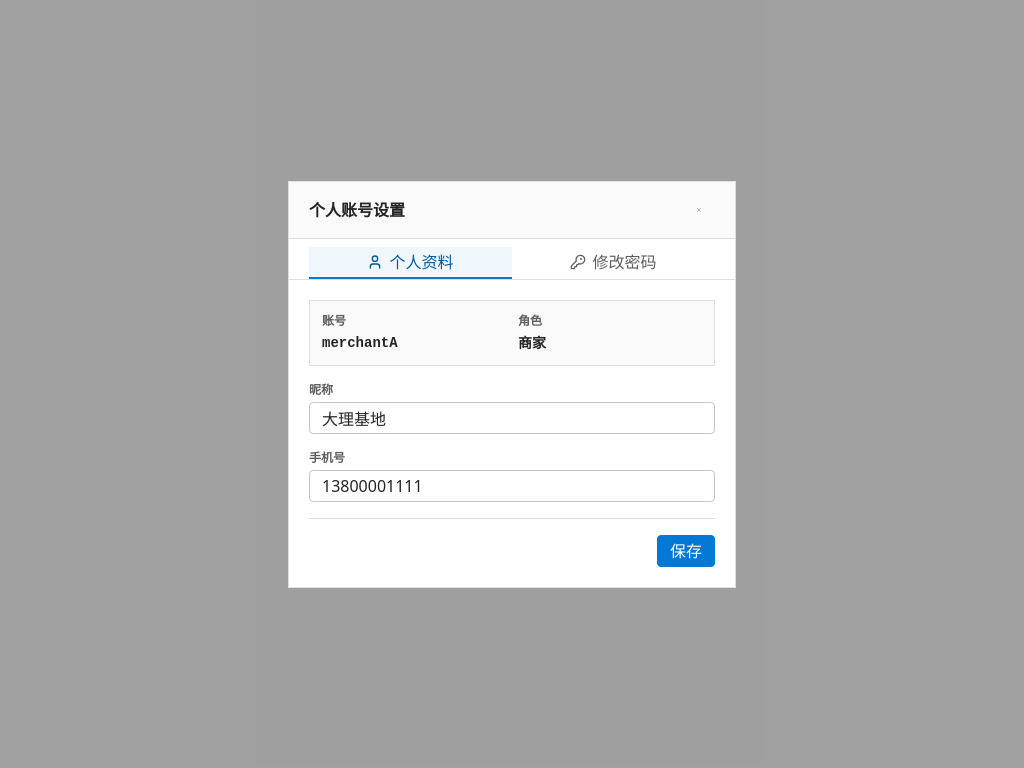
Test: ProfileSettings Fluent account modal › changes password, revokes the web session, and requires a fresh login
Expected: the text "merchantA" is shown, x1=322 y1=334 x2=398 y2=350
Click the button "修改密码": coordinates (614, 262) x1=512 y1=246 x2=715 y2=278
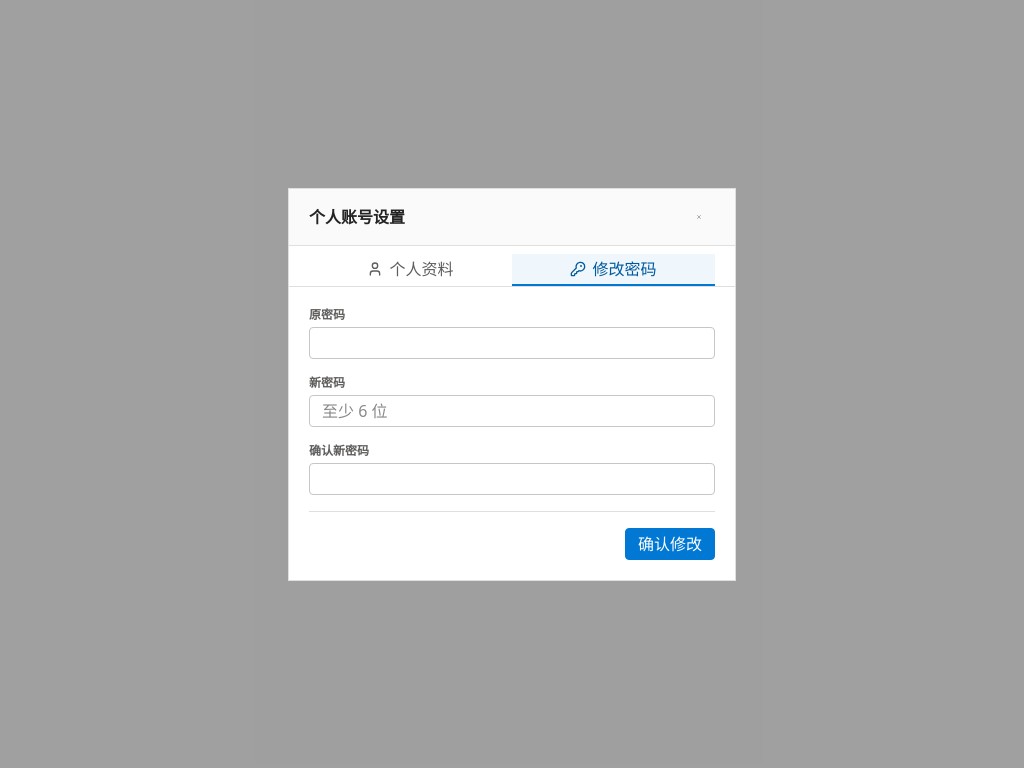
In the password field labelled "原密码": coordinates (512, 342) x1=309 y1=326 x2=715 y2=358, type "old-pass"
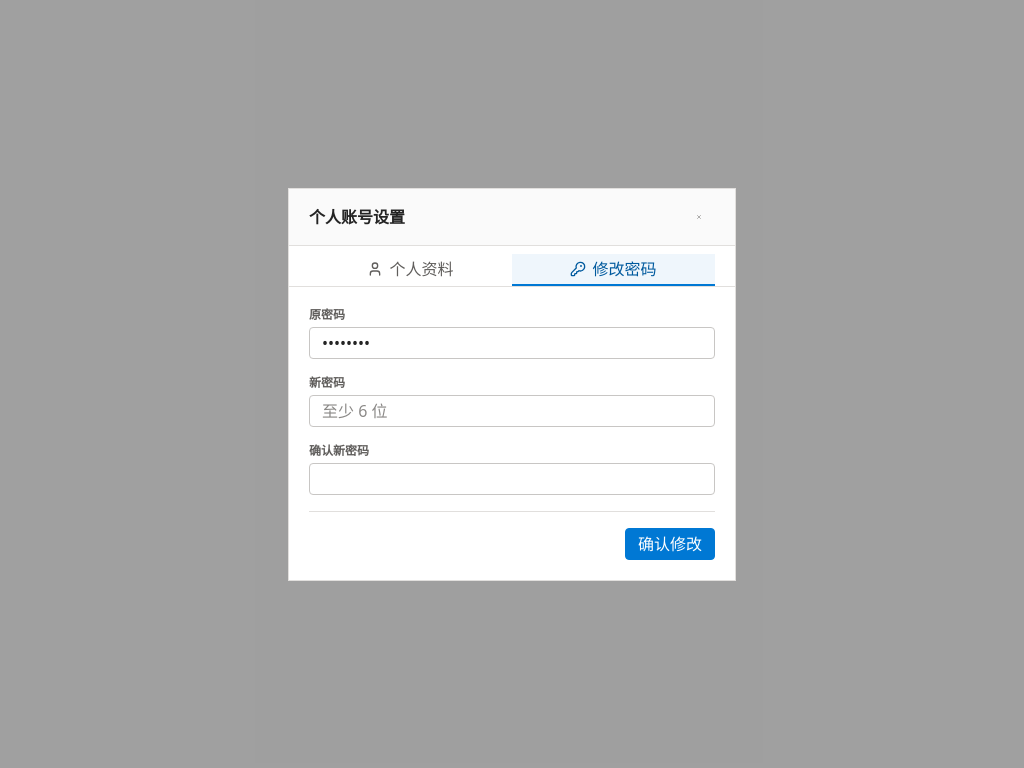
In the password field labelled "新密码": coordinates (512, 410) x1=309 y1=394 x2=715 y2=426, type "new-pass"
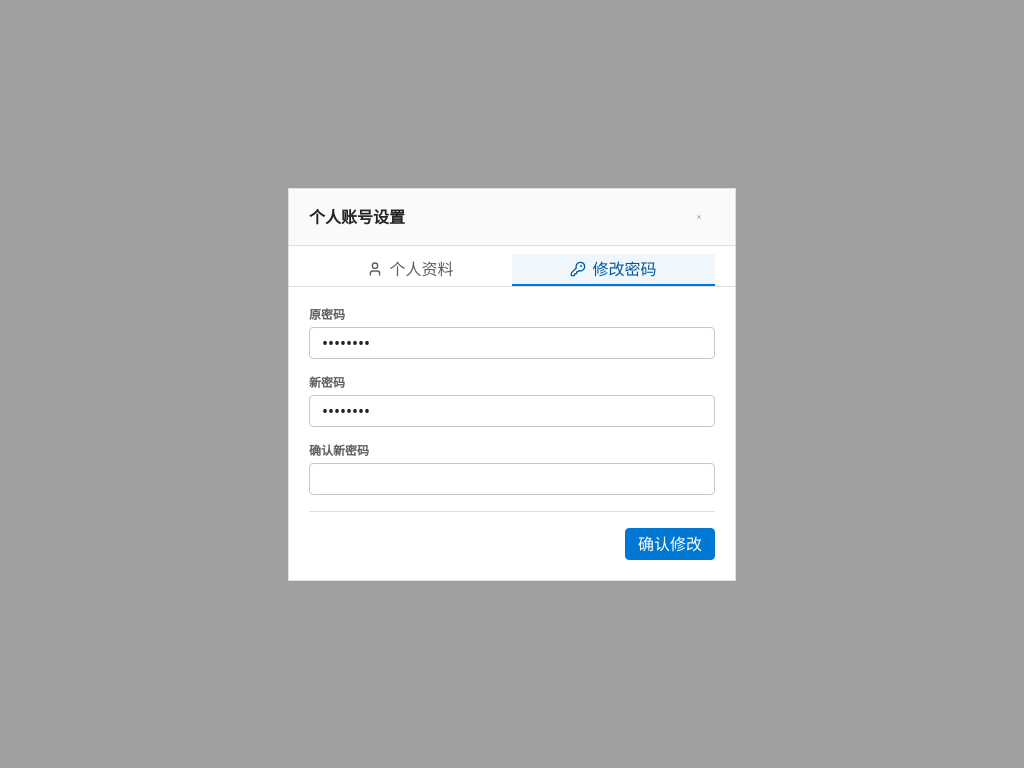
In the password field labelled "确认新密码": coordinates (512, 478) x1=309 y1=462 x2=715 y2=494, type "new-pass"
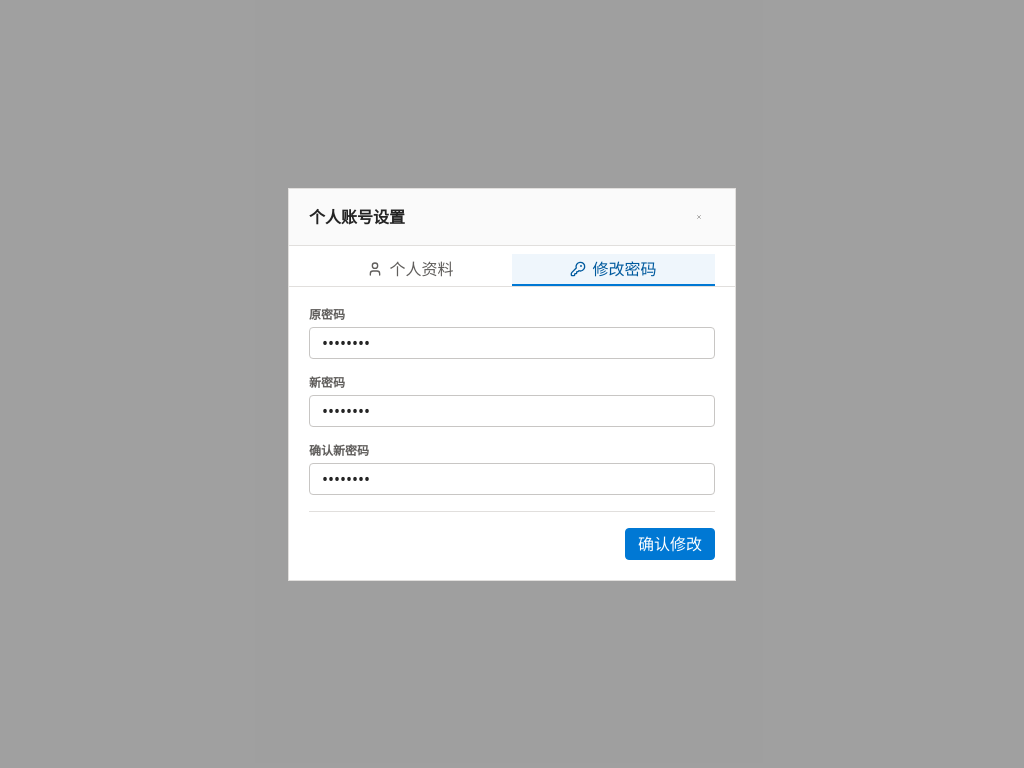
Click the button "确认修改": coordinates (670, 544) x1=625 y1=528 x2=715 y2=560
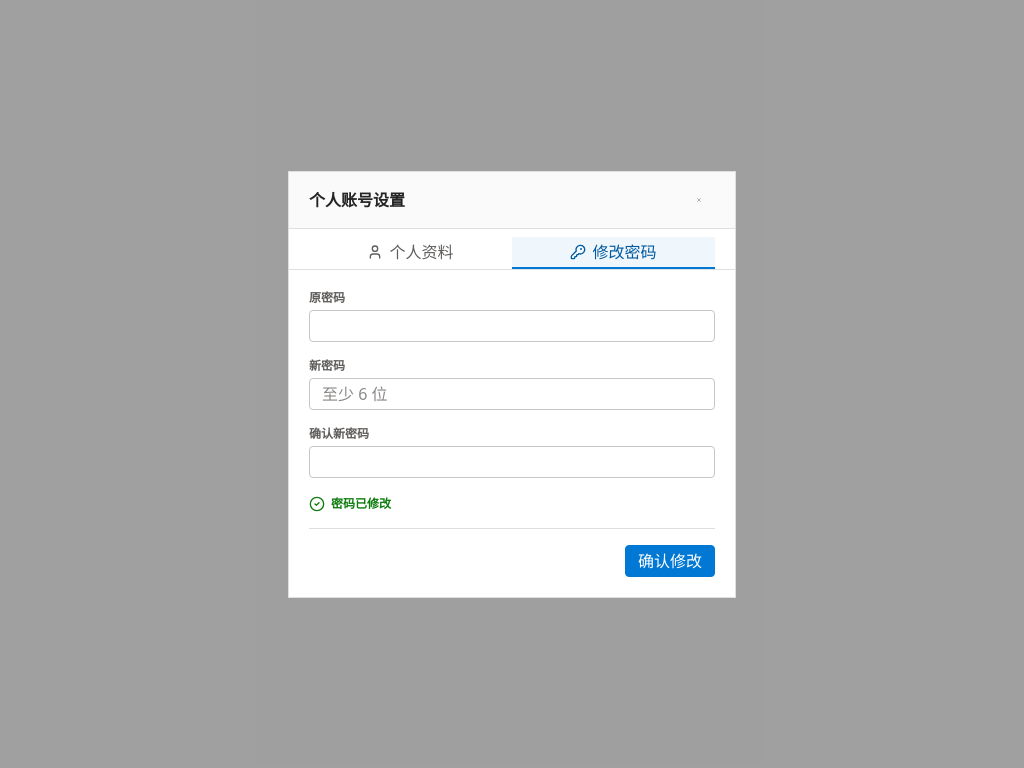
Expected: the text "密码已修改" is shown, x1=309 y1=496 x2=391 y2=512
Expected: the password field labelled "原密码" is empty, x1=309 y1=310 x2=715 y2=342
Expected: the password field labelled "新密码" is empty, x1=309 y1=378 x2=715 y2=410
